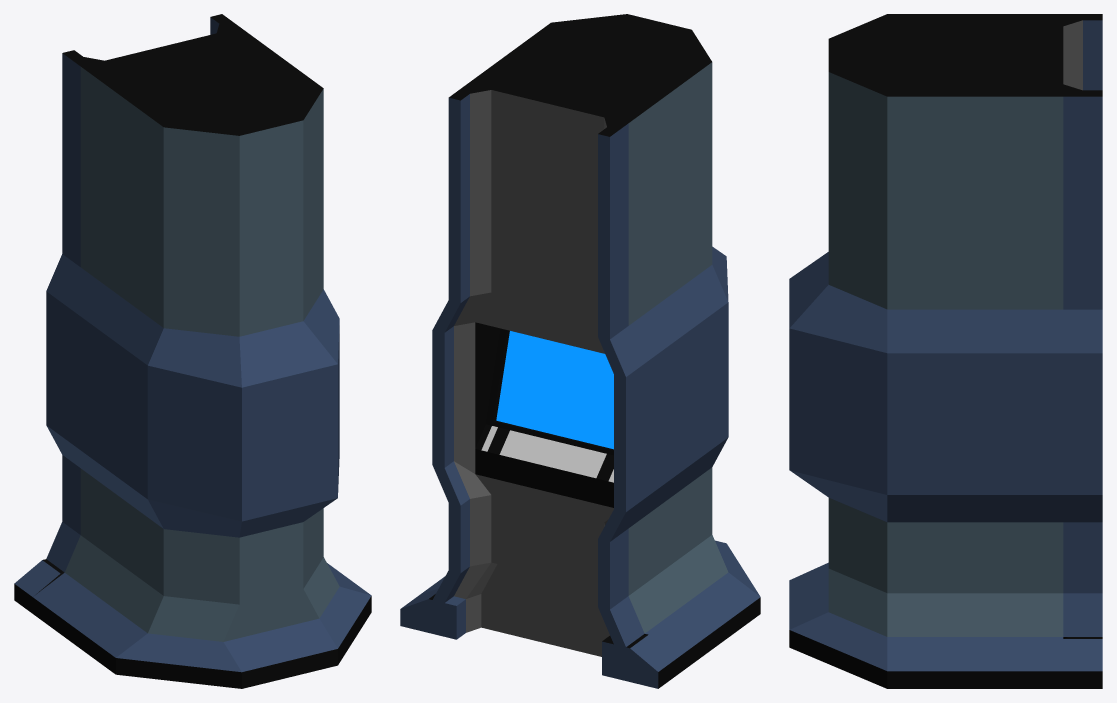
File: Terminal2.fbx
3 renders of one model, left to right at view 1: azimuth 30°, elevation 25°; view 2: azimuth 150°, elevation 25°; view 3: azimuth 270°, elevation 25°, orthographic. The views are drawn at different scales.
Parts seen in each view (by area): view 1: Terminal2; view 2: Terminal2; view 3: Terminal2.
Part boxes in pixels (box(x1,y1,x2,y2)): Terminal2: box(14, 14, 371, 688); Terminal2: box(400, 14, 760, 688); Terminal2: box(789, 14, 1102, 688).
Size of the model in its own units: 200 by 400 by 200.
